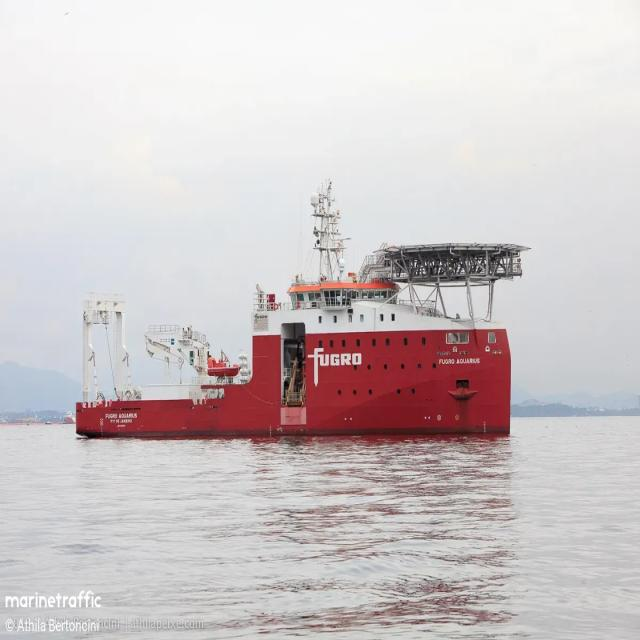Offshore: (76, 183, 529, 436)
